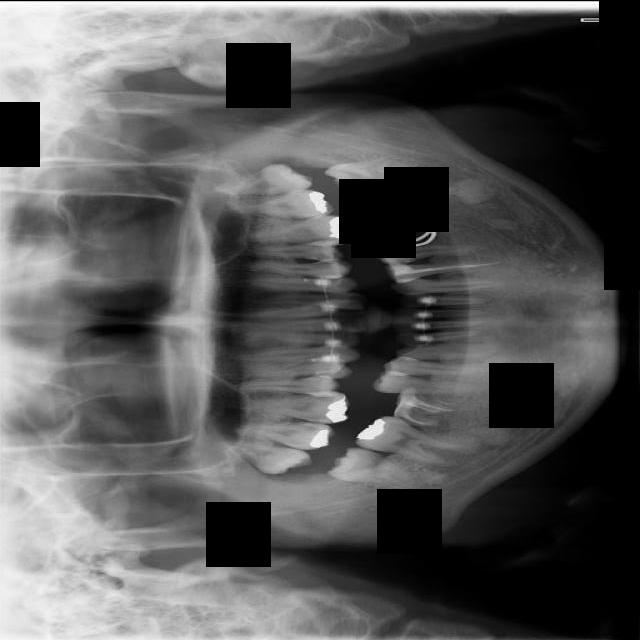3M ESPE Implant: (206, 437, 313, 479)
52: (347, 180, 420, 235), (351, 404, 414, 463), (302, 387, 351, 427), (301, 212, 355, 248), (281, 187, 336, 220), (287, 422, 336, 449), (384, 258, 421, 285), (318, 393, 331, 402)
73: (385, 382, 459, 449), (412, 258, 505, 278), (620, 8, 626, 18)
BioHorizons Implant: (202, 185, 337, 220)
BioLife Implant: (209, 157, 314, 204)
Biomet 3i Implant: (323, 149, 421, 202)
Blue Sky Bio Implant: (350, 168, 465, 239)
Caries: (217, 419, 337, 450)
Implant: (353, 408, 472, 470)
Keystone Dental Implant: (325, 441, 422, 493)
